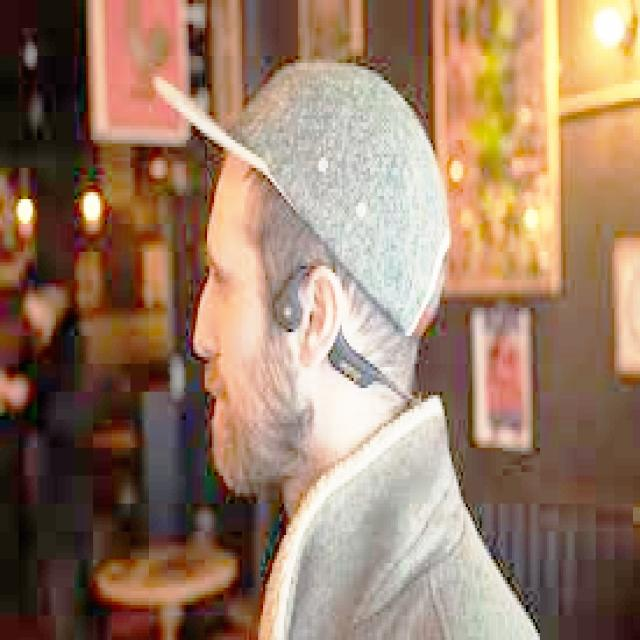TOPI: (150, 37, 468, 330)
